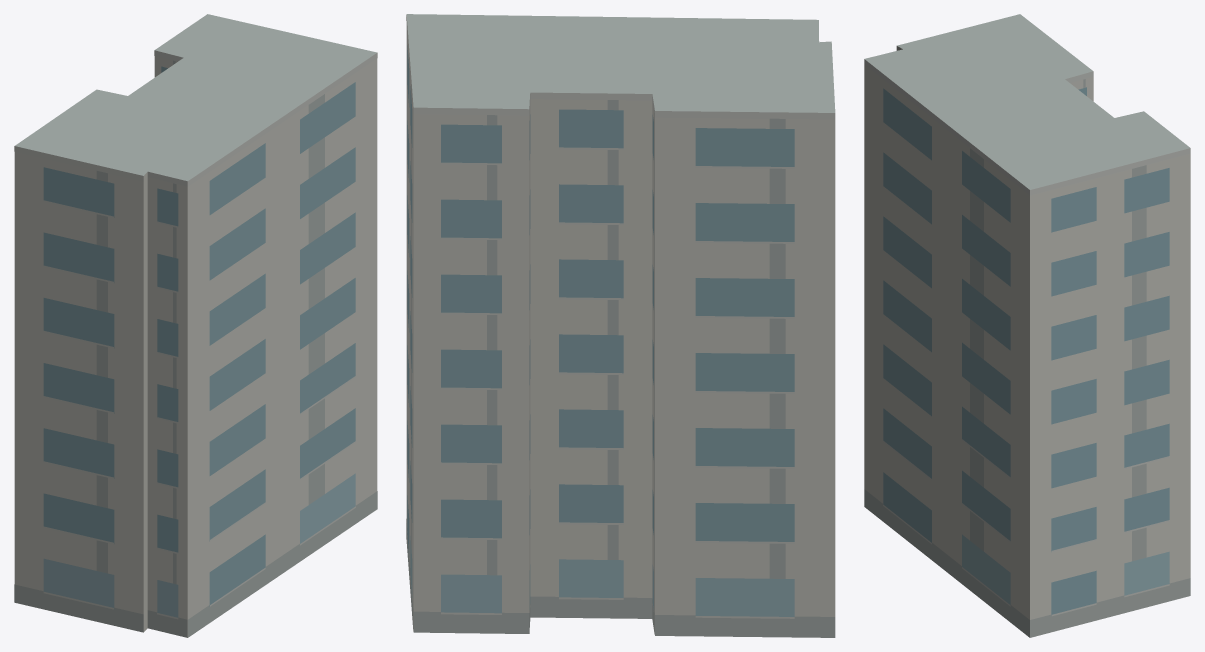
The model's file is survey-upis-32814022.glb.
The picture shows the model from 3 angles, left to right: view 1: azimuth 30°, elevation 25°; view 2: azimuth 150°, elevation 25°; view 3: azimuth 270°, elevation 25°; orthographic projection. The views are drawn at different scales.
Visible parts, largest first — view 1: survey-upis-32814022.tmp; view 2: survey-upis-32814022.tmp; view 3: survey-upis-32814022.tmp.
Part boxes in pixels (x1=…): survey-upis-32814022.tmp: x1=14, y1=14, x2=377, y2=637; survey-upis-32814022.tmp: x1=406, y1=14, x2=835, y2=637; survey-upis-32814022.tmp: x1=864, y1=14, x2=1190, y2=637.
Size of the model in its own units: 16.71 by 19.8 by 13.09.
